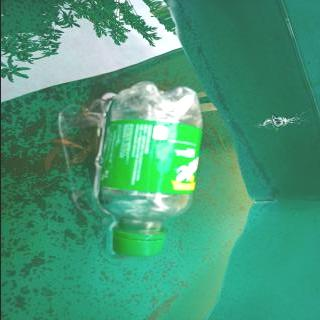bottle: (96, 80, 205, 256)
